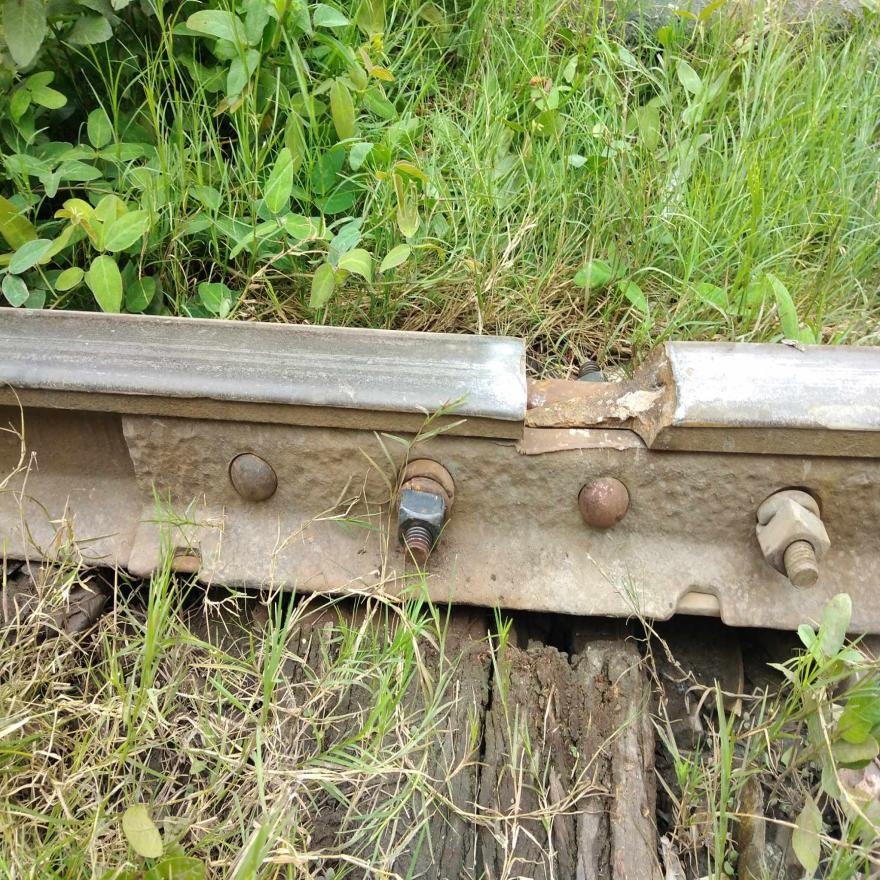railway-gap: (495, 306, 697, 480)
